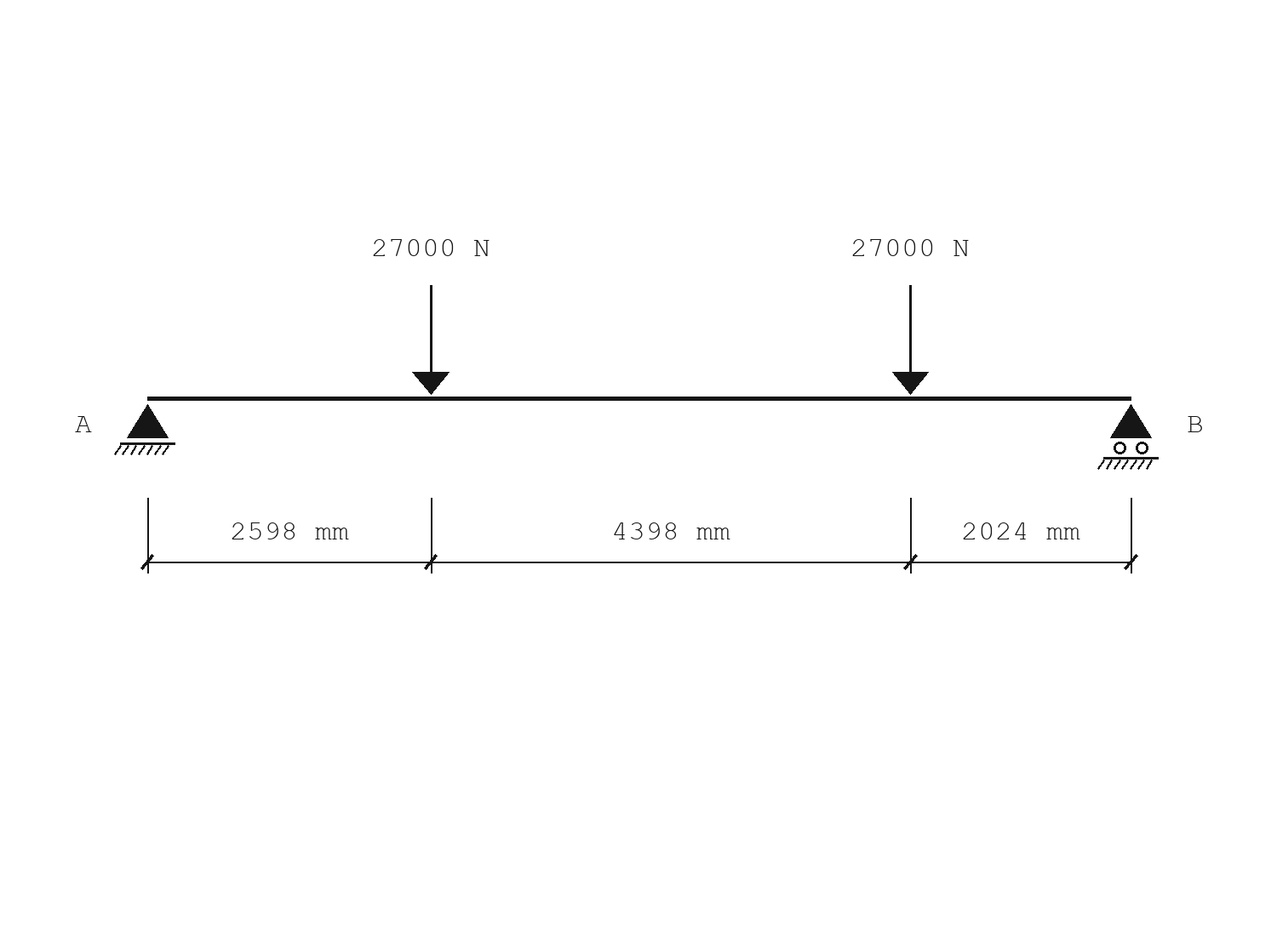pin_support: (114, 404, 175, 455)
point_load: (412, 285, 450, 395), (892, 285, 929, 395)
roller_support: (1097, 404, 1159, 470)
